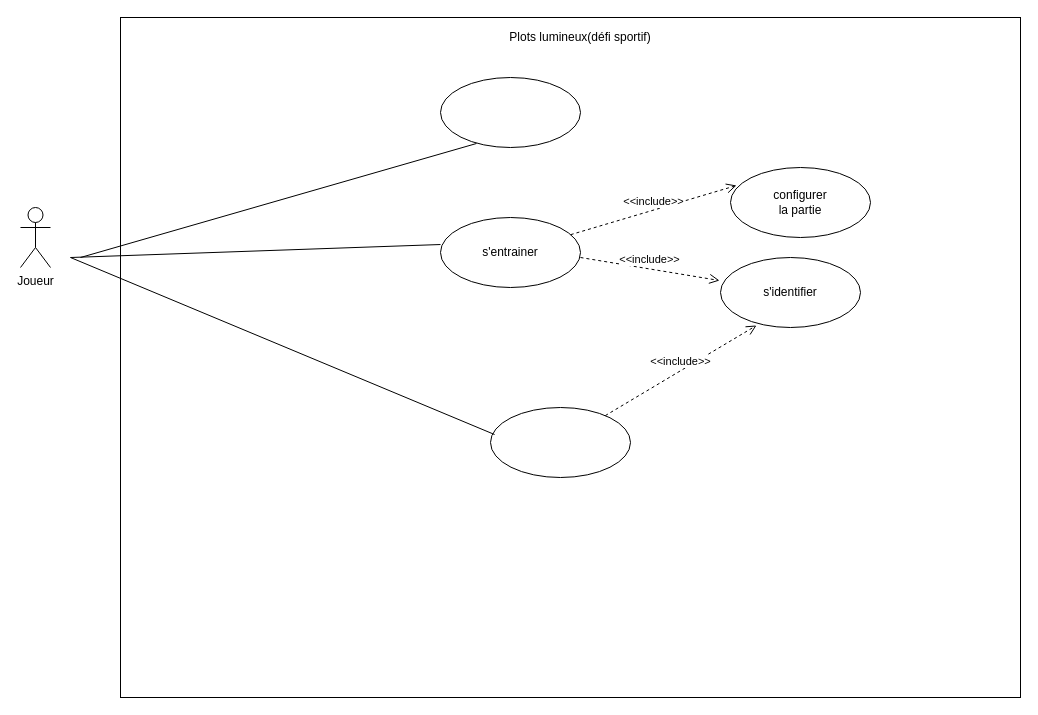
This 1038x715 diagram has some shape labels left out. Here are the shapes that lost their labels. From the top down, the centre of each, then its label:
the point at 510,112: Visualiser état du plot
the point at 560,442: consulter les résultats
